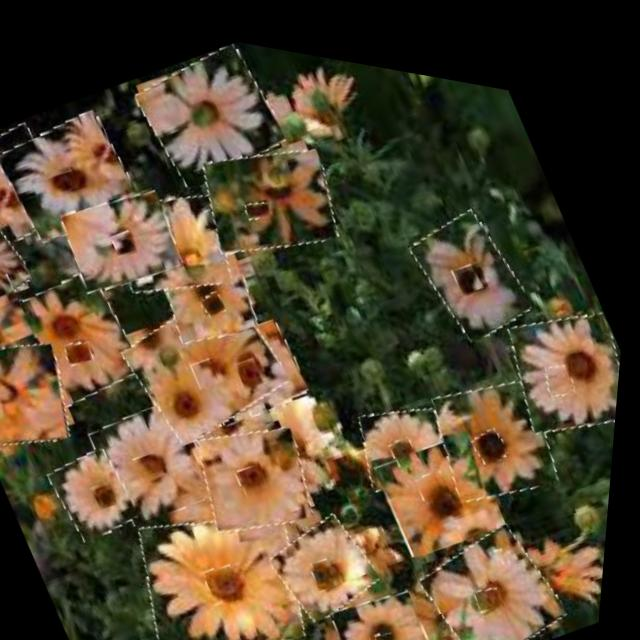Flower: (122, 461, 339, 640), (115, 258, 307, 456), (126, 19, 297, 198), (188, 105, 357, 277), (0, 251, 157, 431), (423, 337, 579, 505), (417, 487, 586, 640), (0, 93, 151, 257), (101, 159, 251, 316), (188, 390, 335, 546), (375, 402, 522, 557), (405, 178, 544, 339), (495, 265, 628, 433), (89, 377, 232, 533), (57, 166, 196, 307), (189, 295, 323, 432), (269, 487, 398, 622), (0, 314, 98, 473), (352, 369, 471, 497), (154, 226, 272, 352), (0, 114, 85, 261), (52, 434, 153, 546), (334, 561, 454, 640), (0, 269, 49, 387), (0, 212, 46, 332), (209, 544, 265, 601), (475, 404, 520, 452), (545, 337, 586, 383), (421, 449, 462, 493), (46, 161, 85, 199), (242, 450, 279, 489), (139, 441, 175, 480), (317, 542, 352, 581), (453, 242, 488, 281), (194, 346, 229, 384), (239, 344, 273, 383), (67, 331, 102, 367), (394, 418, 428, 455), (481, 562, 516, 597), (114, 221, 146, 256), (12, 170, 44, 205), (202, 279, 233, 312), (246, 185, 279, 216), (98, 474, 128, 508), (380, 611, 411, 640)
